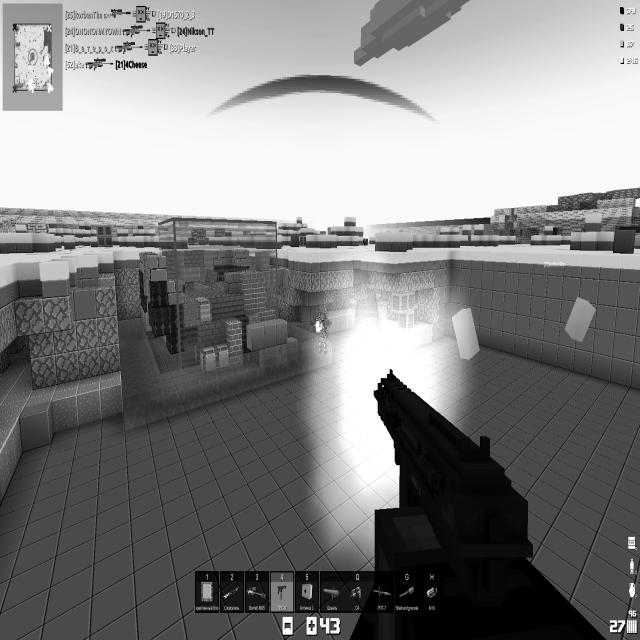Head: (315, 315, 324, 325)
Player: (313, 312, 329, 354)
